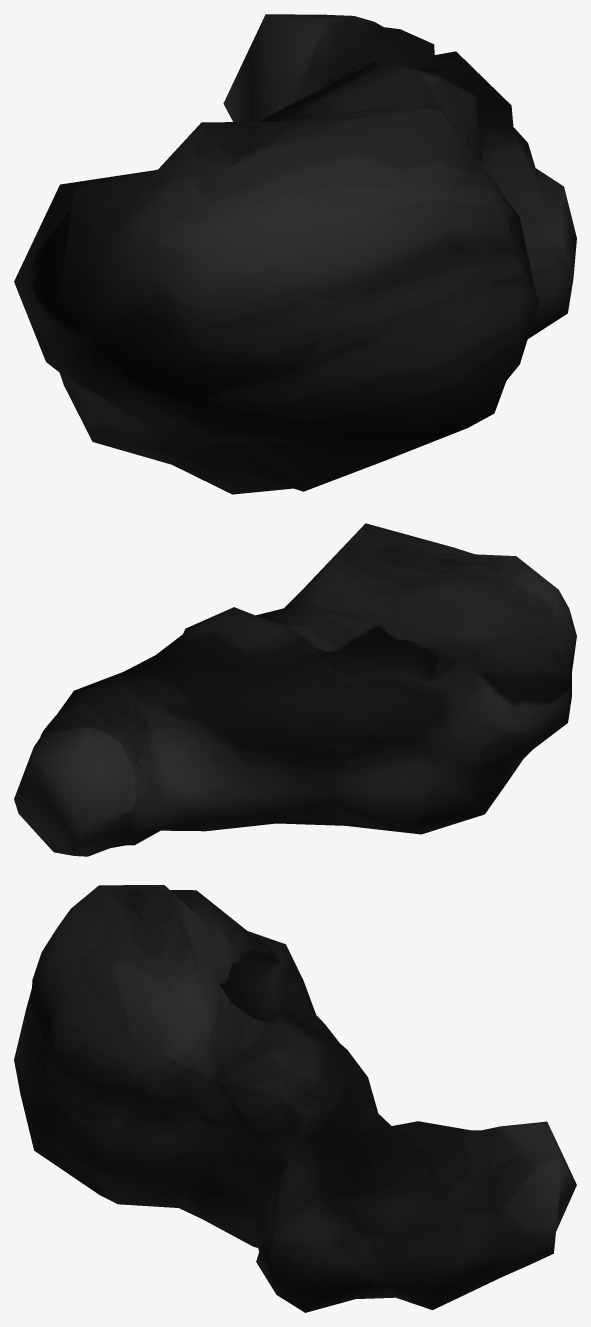
The model's file is 09-Rock.fbx.
3 renders of one model, top to bottom at view 1: azimuth 30°, elevation 25°; view 2: azimuth 150°, elevation 25°; view 3: azimuth 270°, elevation 25°, orthographic. The views are drawn at different scales.
Visible parts, largest first — view 1: 09-CoralRock.039; view 2: 09-CoralRock.039; view 3: 09-CoralRock.039.
Part boxes in pixels (<box>): 09-CoralRock.039: <box>14,14,576,494</box>; 09-CoralRock.039: <box>14,523,576,856</box>; 09-CoralRock.039: <box>14,885,576,1312</box>.
Size of the model in its own units: 334 by 204 by 367.
